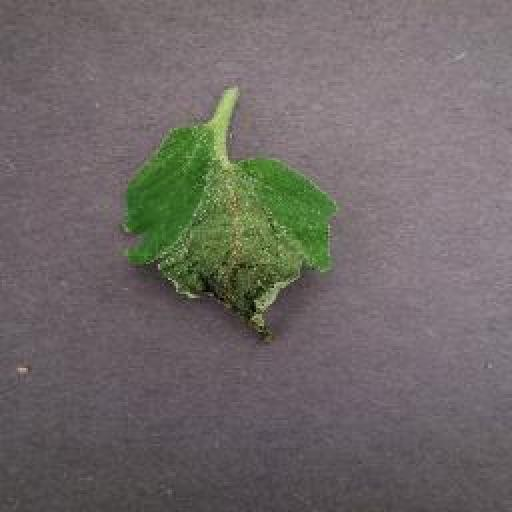disease_tomato: (120, 123, 338, 345)
